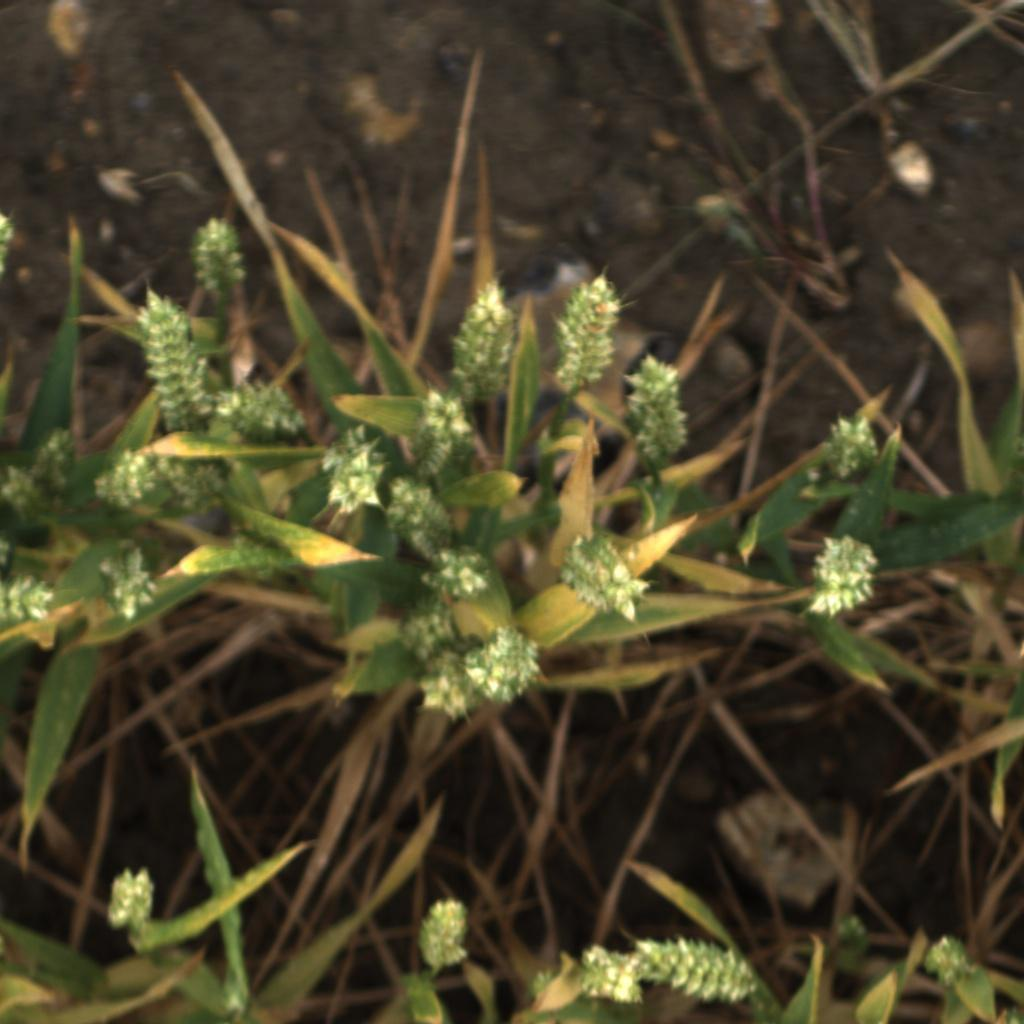0-0: (125, 290, 217, 426), (547, 271, 631, 395), (436, 278, 521, 394), (554, 523, 651, 624), (634, 934, 762, 1009), (624, 355, 697, 471), (797, 534, 884, 620), (406, 392, 484, 485), (318, 429, 395, 516), (221, 379, 313, 449), (379, 473, 453, 557), (185, 211, 253, 302), (93, 539, 163, 627), (465, 629, 548, 702), (386, 599, 467, 669), (412, 892, 477, 975), (814, 412, 888, 482), (413, 653, 483, 724), (578, 940, 654, 1005), (91, 445, 165, 510), (96, 867, 163, 935), (33, 423, 97, 493), (916, 932, 983, 996), (169, 456, 236, 519), (426, 546, 496, 604), (0, 463, 55, 530), (0, 569, 62, 628), (829, 906, 872, 957), (0, 207, 21, 280), (721, 768, 723, 775)
